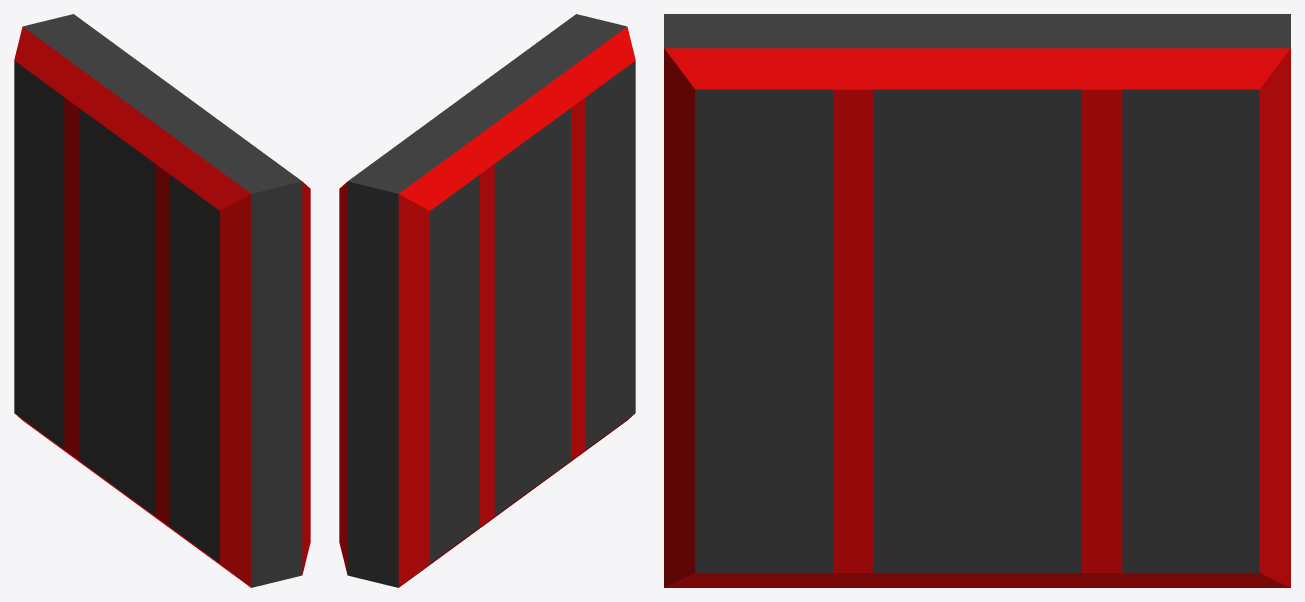
The model's file is Door.fbx.
3 renders of one model, left to right at view 1: azimuth 30°, elevation 25°; view 2: azimuth 150°, elevation 25°; view 3: azimuth 270°, elevation 25°, orthographic. The views are drawn at different scales.
Visible parts, largest first — view 1: polySurface8; view 2: polySurface8; view 3: polySurface8.
Part boxes in pixels (bbox=[...]): polySurface8: bbox=[14, 14, 310, 587]; polySurface8: bbox=[339, 14, 635, 587]; polySurface8: bbox=[664, 14, 1290, 587].
Size of the model in its own units: 1.37 by 5.7 by 6.
